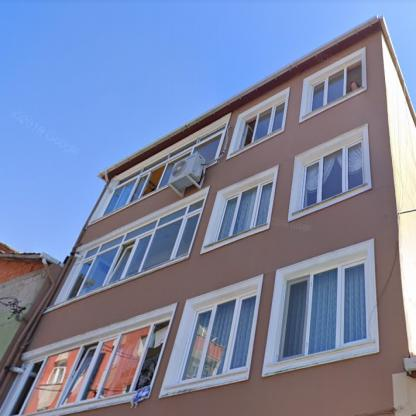window: (7, 320, 168, 414), (66, 197, 206, 298), (99, 125, 224, 215), (279, 261, 364, 360), (181, 291, 256, 379), (302, 139, 362, 207), (216, 179, 272, 240), (238, 100, 285, 148), (312, 69, 345, 110)
